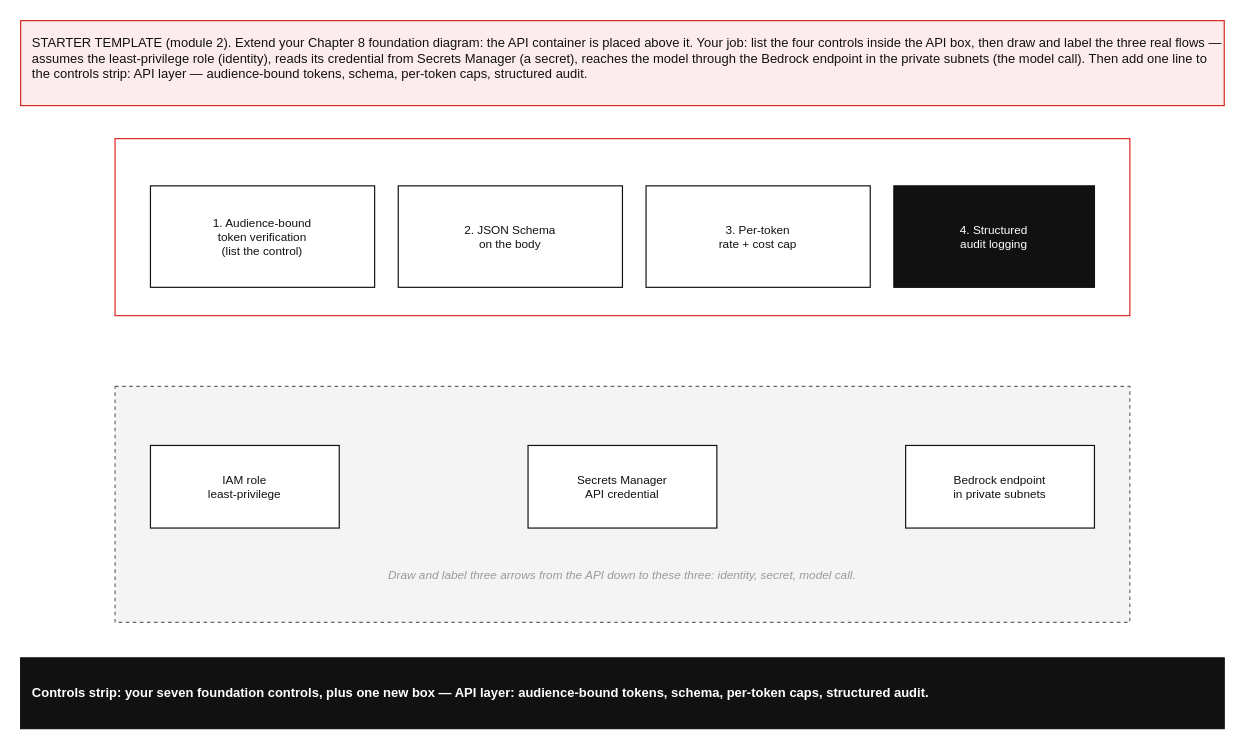
This 1245x749 diagram has some shape labels left out. The box of each missing label's shape, as (x1, y1, x2, y2) in pixels:
Inference API POST /v1/complete (this module, weak then hardened): (114, 137, 1130, 316)
THE FOUNDATION (Chapter 8, pinned hardened) — reuse your module-01 diagram here: (114, 385, 1130, 622)
